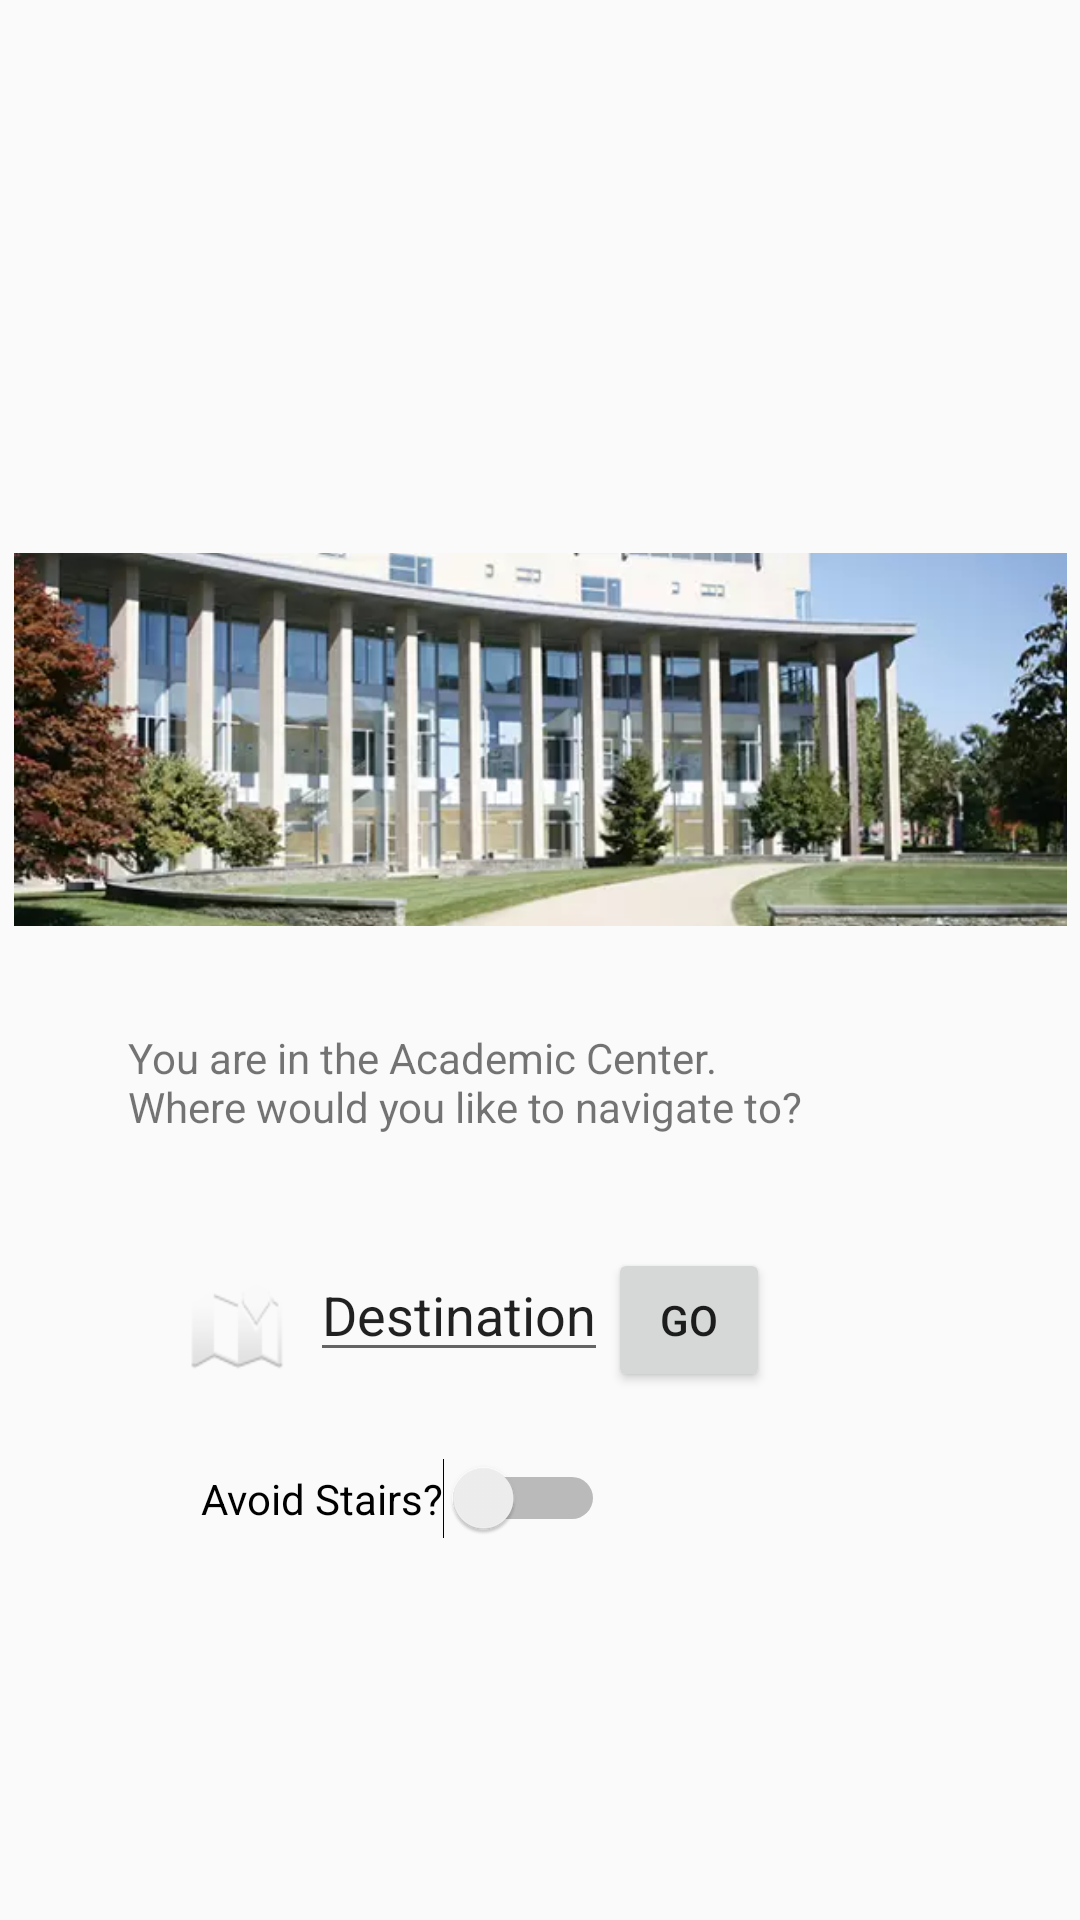

Screen size 1080×1920. Icon name, then its center in pixels as (x=x, y=y):
map: (x=237, y=1331)
